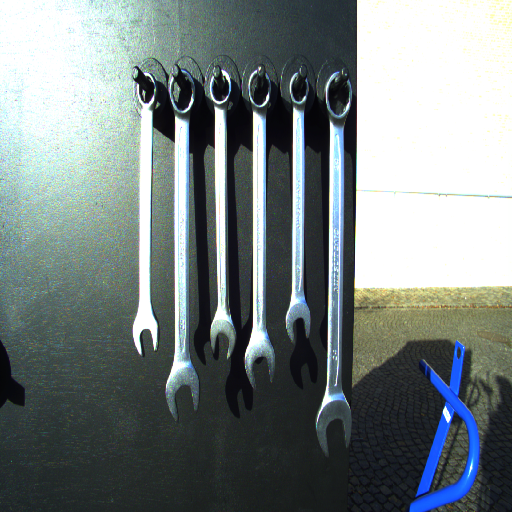bottom: (312, 397, 353, 459), (165, 366, 201, 423), (242, 339, 276, 390), (206, 317, 236, 359), (283, 301, 312, 342), (131, 318, 159, 356)
top: (322, 69, 354, 122), (166, 68, 197, 115), (246, 66, 274, 109), (206, 68, 235, 108), (131, 73, 161, 106), (285, 69, 312, 104)
